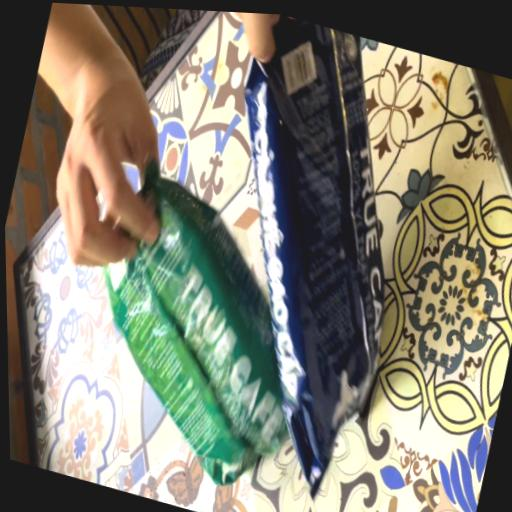cafe_hat: (245, 17, 384, 495)
cafe_xay: (104, 169, 287, 484)
